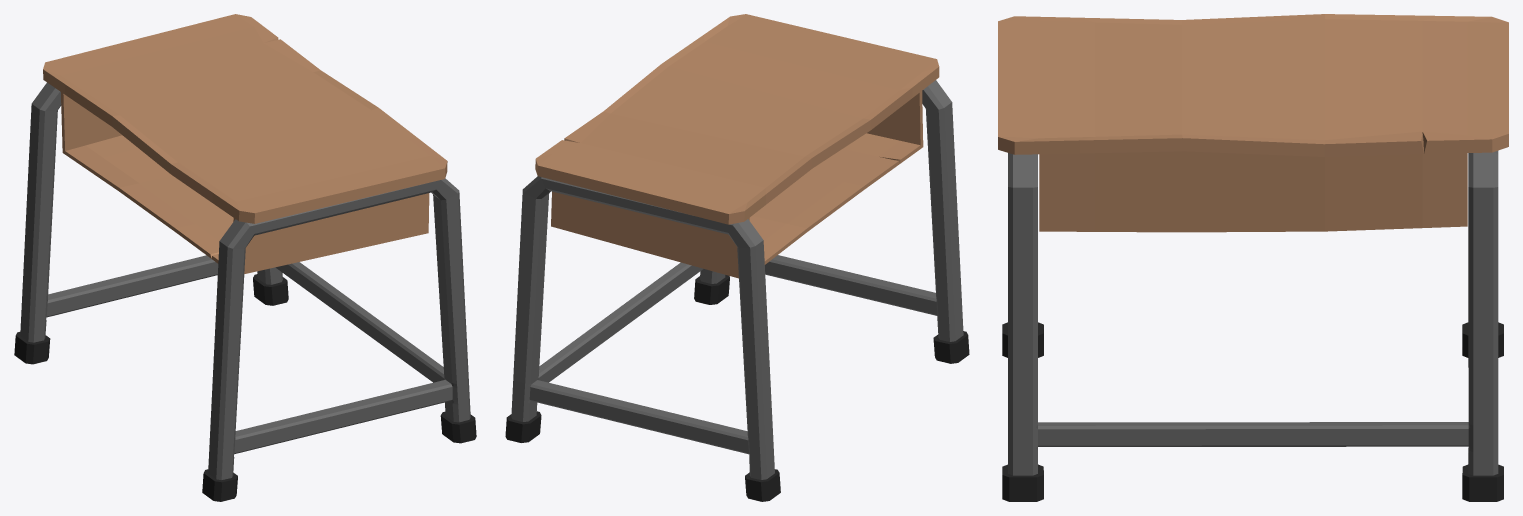
Rendered from table.fbx.
The picture shows the model from 3 angles, left to right: view 1: azimuth 30°, elevation 25°; view 2: azimuth 150°, elevation 25°; view 3: azimuth 270°, elevation 25°; orthographic projection. The views are drawn at different scales.
Parts seen in each view (by area): view 1: Perna Mesa; view 2: Perna Mesa; view 3: Perna Mesa.
Part boxes in pixels (box(x1,y1,x2,y2)): Perna Mesa: box(14, 14, 476, 501); Perna Mesa: box(505, 14, 969, 501); Perna Mesa: box(998, 14, 1508, 501).
Bounding box in the file's own units: 417 × 430 × 572.
